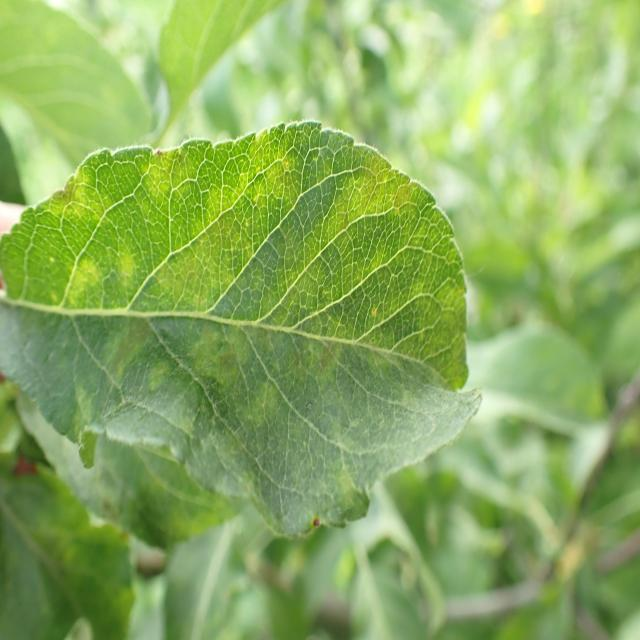scab: (40, 260, 468, 537), (248, 113, 445, 243), (39, 151, 90, 227)
